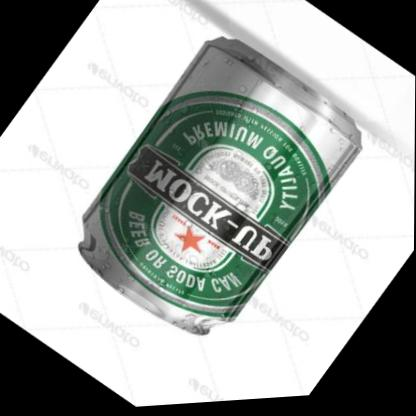metal: (77, 38, 362, 336)
